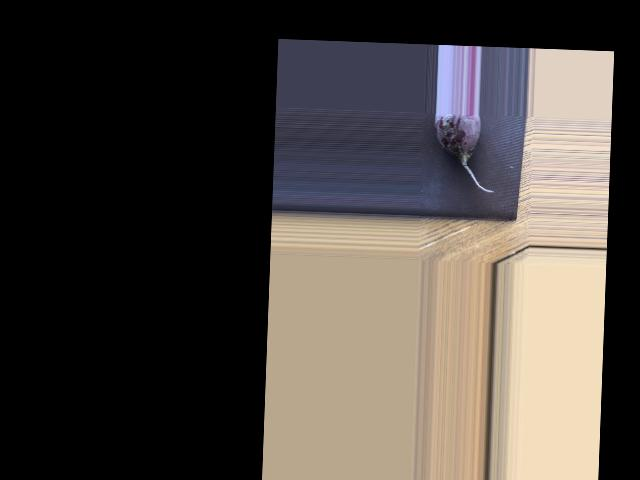beet: (432, 113, 496, 193)
